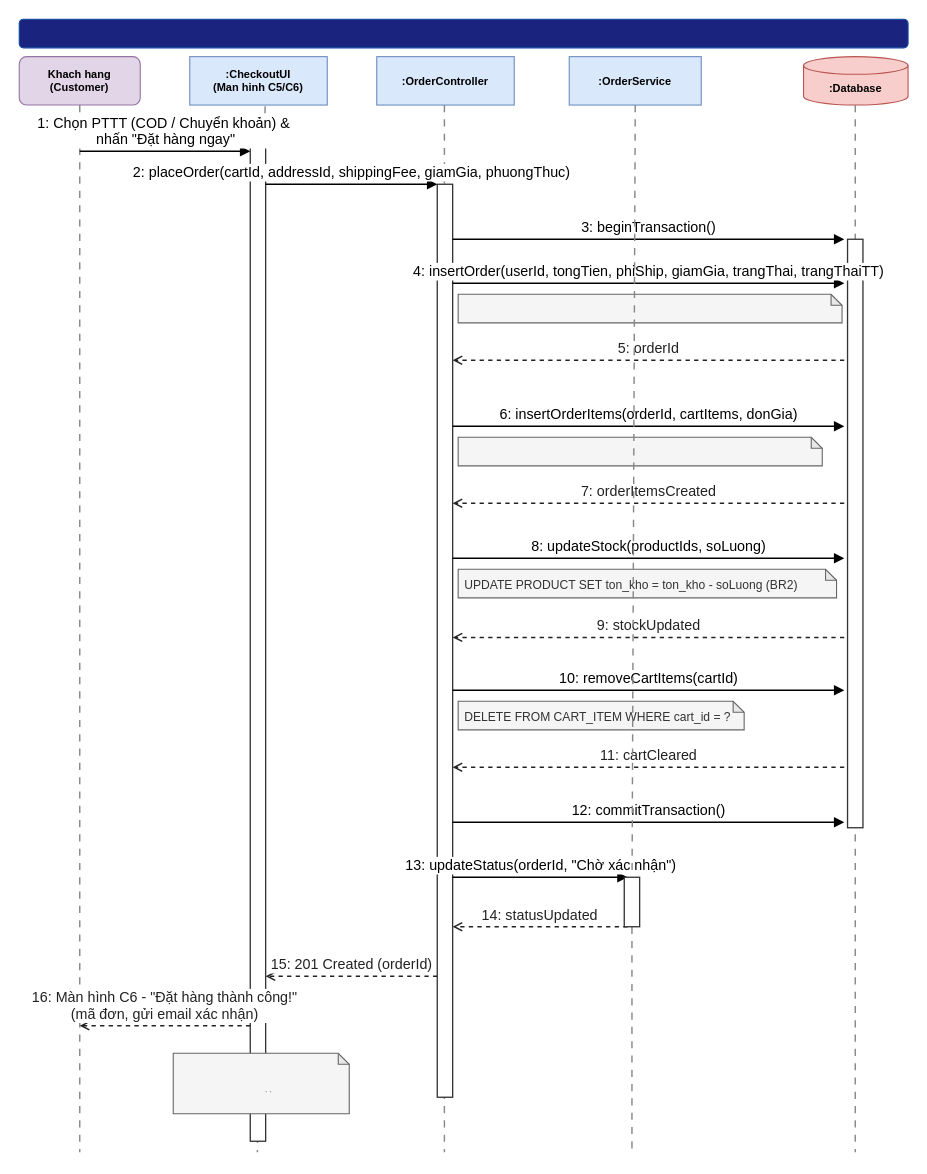
This 927x1174 diagram has some shape labels left out. Here are the shapes that lost their labels. From the top down, the box of each, then its label:
(18, 18, 908, 48): SD2A.2 – XÁC NHẬN ĐẶT HÀNG & THỰC THI GIAO DỊCH COD / CHUYỂN KHOẢN (UC13)
(457, 293, 842, 323): ORDERS(trangThai='Chờ xác nhận', trangThaiTT='Chưa thanh toán')
(457, 436, 822, 466): ORDER_ITEM(donGia = giá chốt cứng tại thời điểm mua - BR3)
(172, 1052, 349, 1114): Hệ thống gửi email xác nhận đơn hàng đến KH (SYS1 trong AD1)
